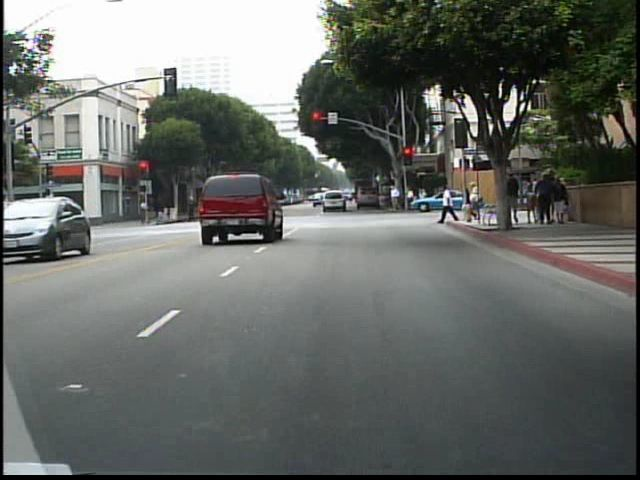person: (522, 180, 540, 227), (507, 173, 522, 228), (439, 184, 458, 225), (468, 179, 483, 225), (458, 182, 472, 225), (185, 191, 199, 226), (139, 197, 148, 226)
